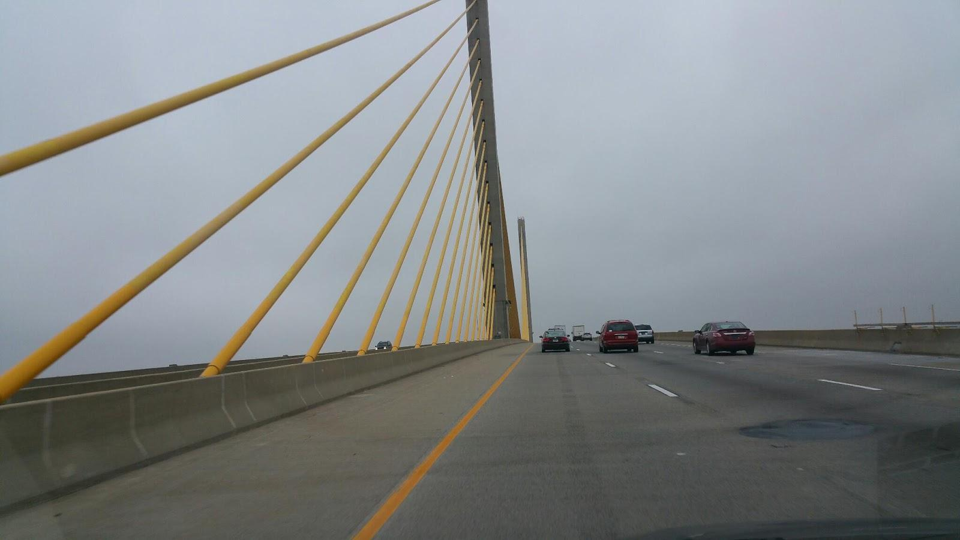bus: (552, 324, 568, 344), (570, 324, 586, 342)
car: (692, 320, 757, 356), (595, 318, 639, 354), (538, 329, 572, 354), (629, 324, 656, 344), (374, 340, 393, 353), (580, 332, 593, 341)
